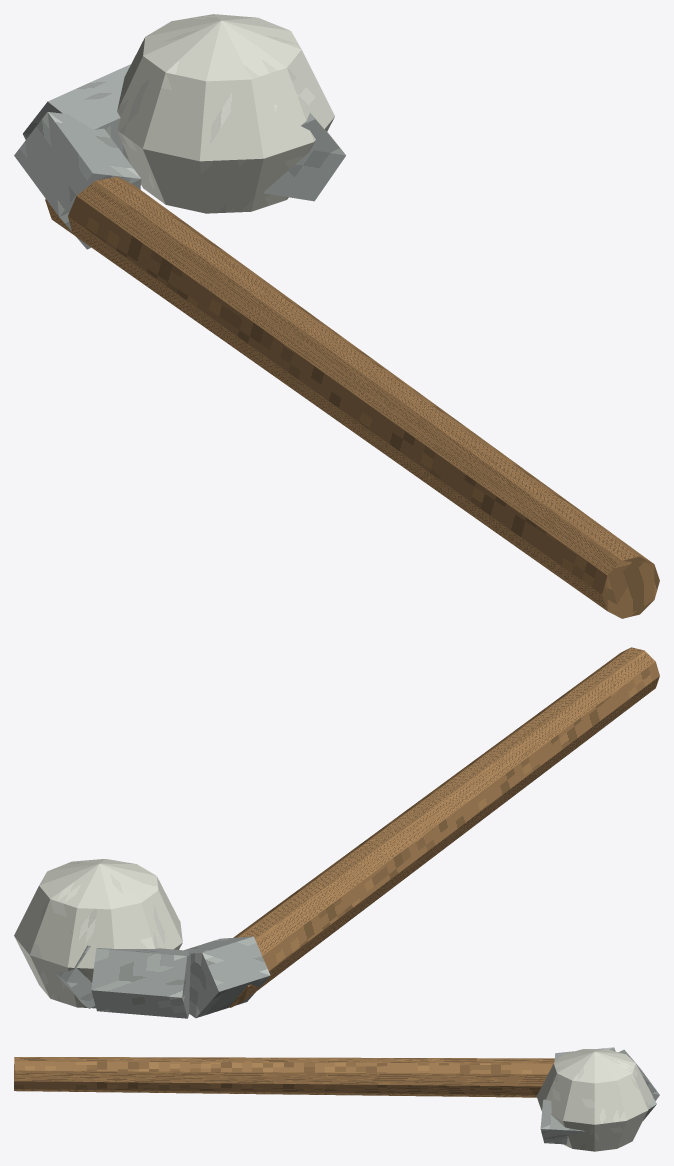
The model's file is wizard_cane.glb.
3 renders of one model, top to bottom at view 1: azimuth 30°, elevation 25°; view 2: azimuth 150°, elevation 25°; view 3: azimuth 270°, elevation 25°, orthographic. The views are drawn at different scales.
Visible parts, largest first — view 1: block_tapered shaft, block_white light orb, block_metal headpiece 0, block_metal headpiece 1, block_metal headpiece 3; view 2: block_tapered shaft, block_white light orb, block_metal headpiece 1, block_metal headpiece 0, block_metal headpiece 2; view 3: block_tapered shaft, block_white light orb, block_metal headpiece 3, block_metal headpiece 1.
Part boxes in pixels (x1,y1,x2,y2): block_tapered shaft: (45, 176, 659, 618); block_white light orb: (117, 14, 334, 213); block_metal headpiece 0: (14, 112, 141, 249); block_metal headpiece 1: (23, 64, 130, 164); block_metal headpiece 3: (263, 113, 345, 201); block_tapered shaft: (229, 647, 659, 1007); block_white light orb: (14, 859, 182, 1008); block_metal headpiece 1: (91, 948, 190, 1018); block_metal headpiece 0: (184, 936, 270, 1018); block_metal headpiece 2: (54, 945, 95, 1008); block_tapered shaft: (14, 1057, 554, 1097); block_white light orb: (536, 1049, 652, 1151); block_metal headpiece 3: (540, 1099, 586, 1144); block_metal headpiece 1: (618, 1049, 659, 1100).
Bounding box in the file's own units: 0.2164 × 0.1318 × 0.8.
Materials: 1 (1 with a texture image).
